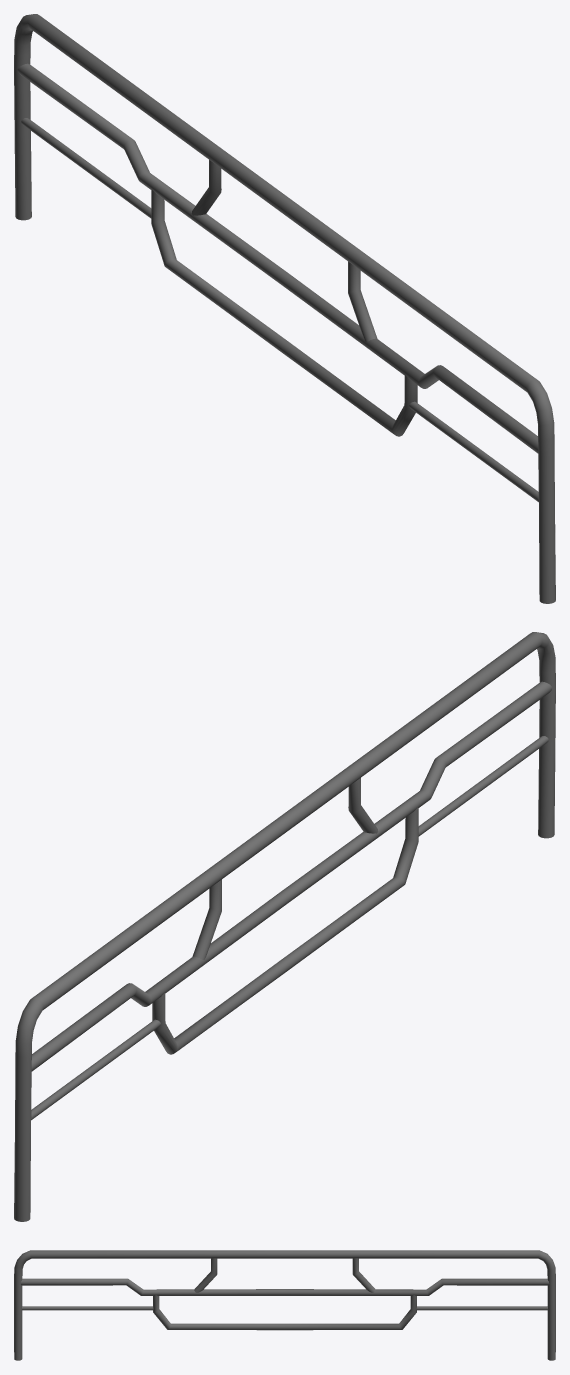
The model's file is prop_rail.glb.
3 views of the same model, one above another, from view 1: azimuth 30°, elevation 25°; view 2: azimuth 150°, elevation 25°; view 3: azimuth 270°, elevation 25° (orthographic). The views are drawn at different scales.
Parts seen in each view (by area): view 1: Prop_Rail_4; view 2: Prop_Rail_4; view 3: Prop_Rail_4.
Boxes of the visible parts, x1,y1,x2,y2 form: Prop_Rail_4: (14, 14, 555, 603); Prop_Rail_4: (14, 632, 555, 1221); Prop_Rail_4: (14, 1250, 555, 1360).
Size of the model in its own units: 0.0666 by 0.8624 by 3.93.
Materials: 1 (1 with a texture image).
